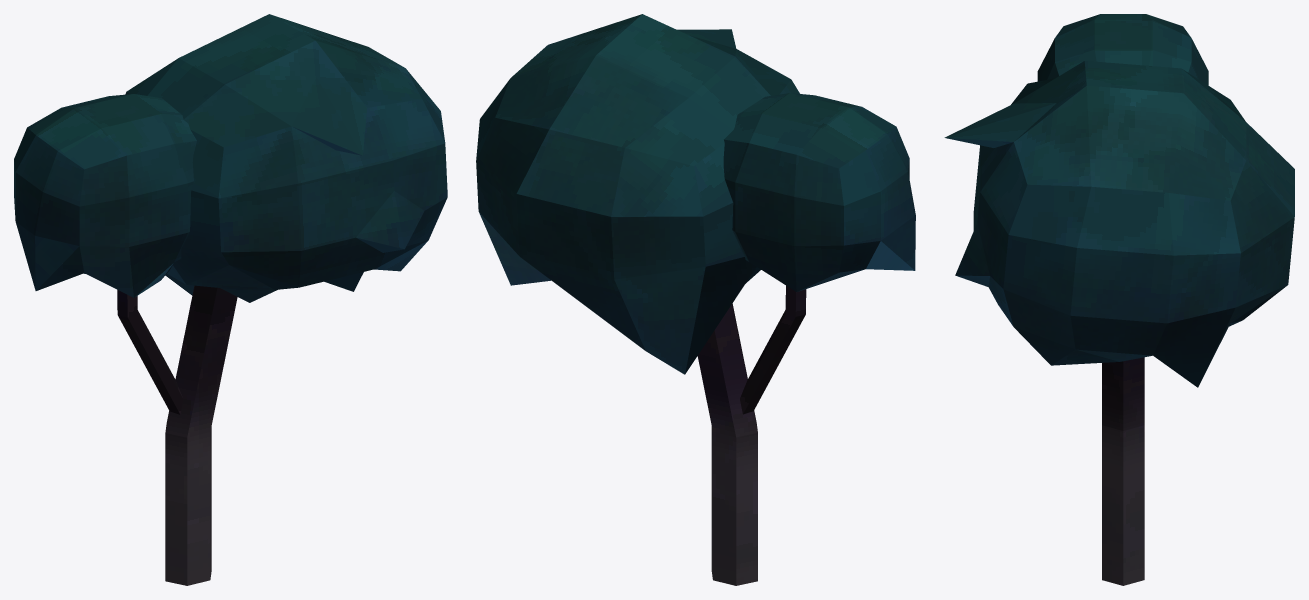
File: Willow1.gltf
The picture shows the model from 3 angles, left to right: view 1: azimuth 30°, elevation 25°; view 2: azimuth 150°, elevation 25°; view 3: azimuth 270°, elevation 25°; orthographic projection. The views are drawn at different scales.
Visible parts, largest first — view 1: cuboid_sphere (×2), cylinder (×2); view 2: cuboid_sphere (×2), cylinder (×2); view 3: cuboid_sphere (×2), cylinder.
Boxes of the visible parts, bbox=[...] form: cuboid_sphere (×2): bbox=[14, 14, 447, 302]; cylinder (×2): bbox=[117, 285, 237, 585]; cuboid_sphere (×2): bbox=[476, 14, 915, 374]; cylinder (×2): bbox=[697, 285, 806, 585]; cuboid_sphere (×2): bbox=[944, 14, 1294, 387]; cylinder: bbox=[1102, 357, 1144, 585].
Size of the model in its own units: 1.4 by 1.76 by 1.03.
Materials: 1 (1 with a texture image).
